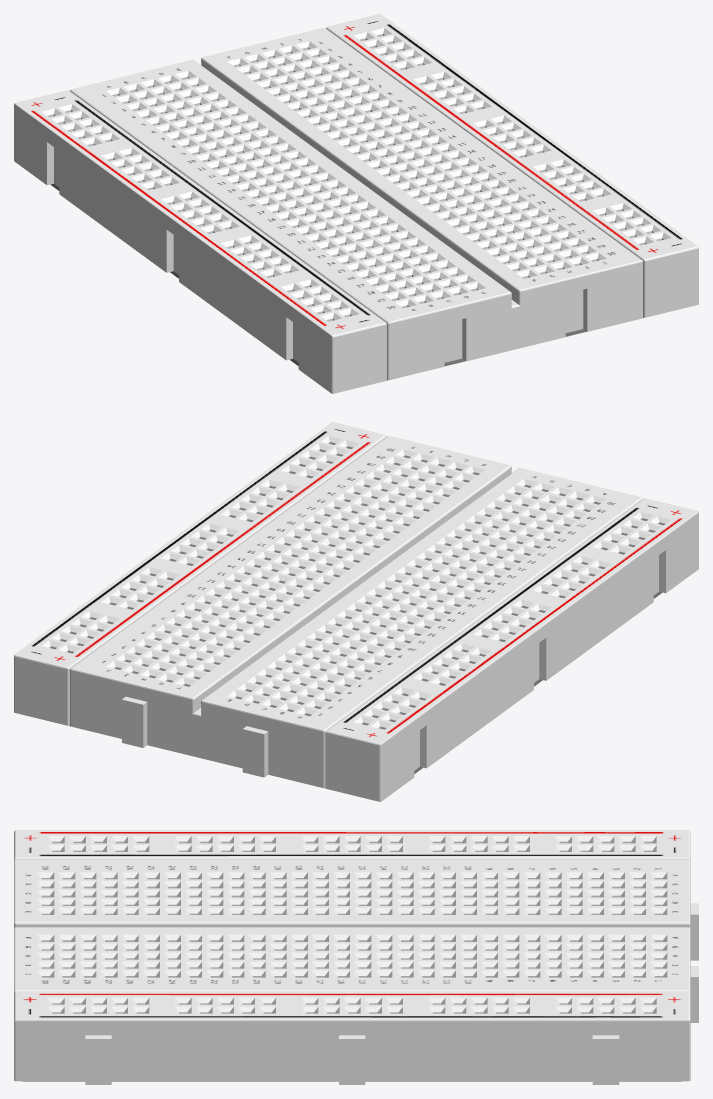
File: breadboard.obj
3 renders of one model, top to bottom at view 1: azimuth 30°, elevation 25°; view 2: azimuth 150°, elevation 25°; view 3: azimuth 270°, elevation 25°, orthographic. The views are drawn at different scales.
Visible parts, largest first — view 1: Breadboard; view 2: Breadboard; view 3: Breadboard, Adhesive.
Part boxes in pixels (x1=…): Breadboard: x1=14, y1=14, x2=698, y2=393; Breadboard: x1=14, y1=422, x2=698, y2=801; Breadboard: x1=14, y1=830, x2=698, y2=1084; Adhesive: x1=22, y1=1081, x2=681, y2=1081.
Bounding box in the file's own units: 0.0542 × 0.0085 × 0.081.
